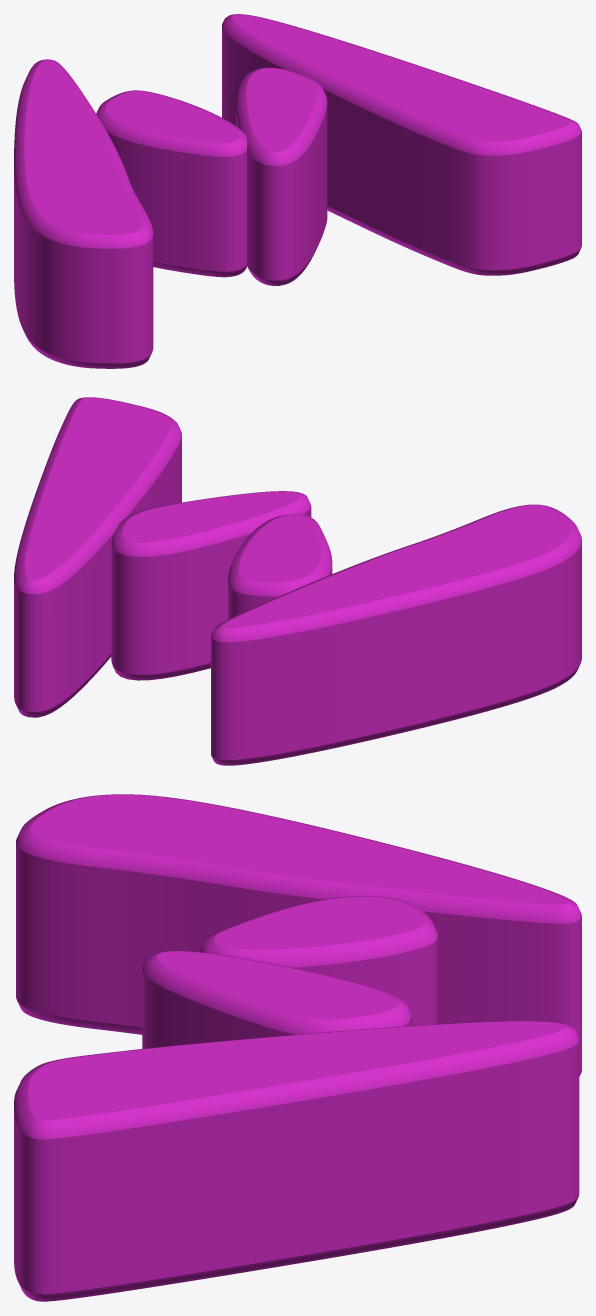
The model's file is Letter_w_Small.fbx.
The picture shows the model from 3 angles, top to bottom: view 1: azimuth 30°, elevation 25°; view 2: azimuth 150°, elevation 25°; view 3: azimuth 270°, elevation 25°; orthographic projection. The views are drawn at different scales.
Visible parts, largest first — view 1: Letter_w; view 2: Letter_w; view 3: Letter_w.
Part boxes in pixels (x1,y1,x2,y2): Letter_w: (14, 14, 581, 368); Letter_w: (14, 397, 581, 765); Letter_w: (14, 794, 581, 1301).
Size of the model in its own units: 0.562 by 0.14 by 0.3991.
